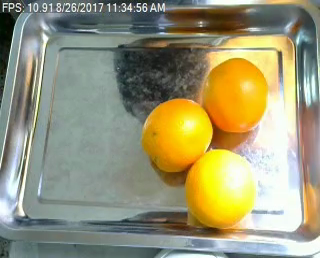Orange: (184, 147, 257, 228), (144, 97, 212, 173), (203, 58, 268, 133)
